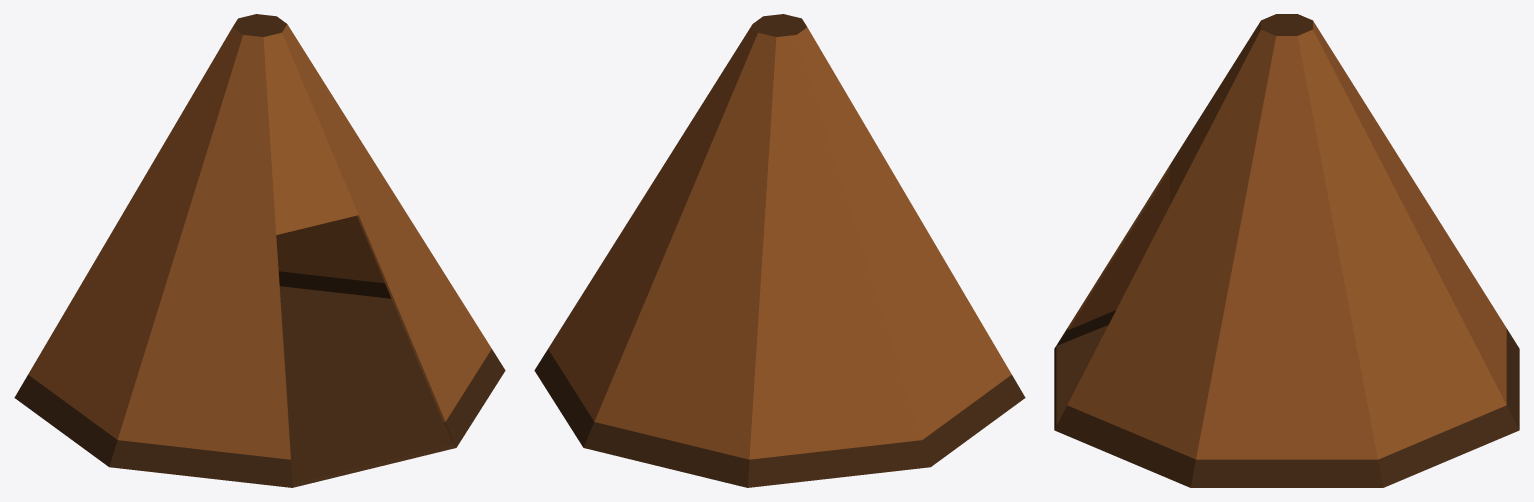
File: Tent_3_Orange.fbx
3 renders of one model, left to right at view 1: azimuth 30°, elevation 25°; view 2: azimuth 150°, elevation 25°; view 3: azimuth 270°, elevation 25°, orthographic.
Parts seen in each view (by area): view 1: Tent_2_Orange; view 2: Tent_2_Orange; view 3: Tent_2_Orange.
Boxes of the visible parts, x1,y1,x2,y2 form: Tent_2_Orange: (14, 14, 505, 487); Tent_2_Orange: (534, 14, 1025, 487); Tent_2_Orange: (1054, 14, 1519, 487).
Bounding box in the file's own units: 240 × 208 × 240.
